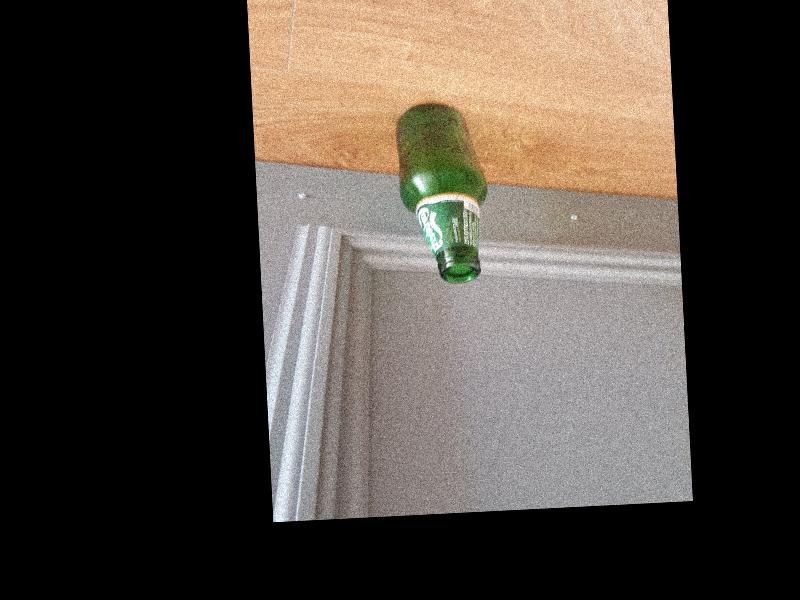Beer: (393, 100, 492, 285)
